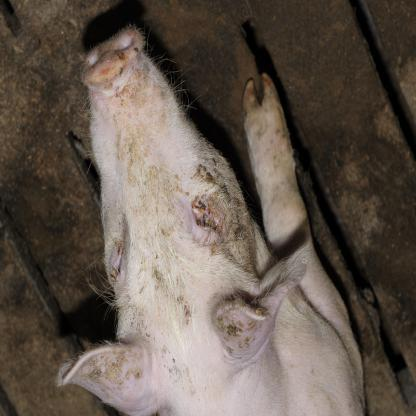boar: (51, 22, 367, 416)
